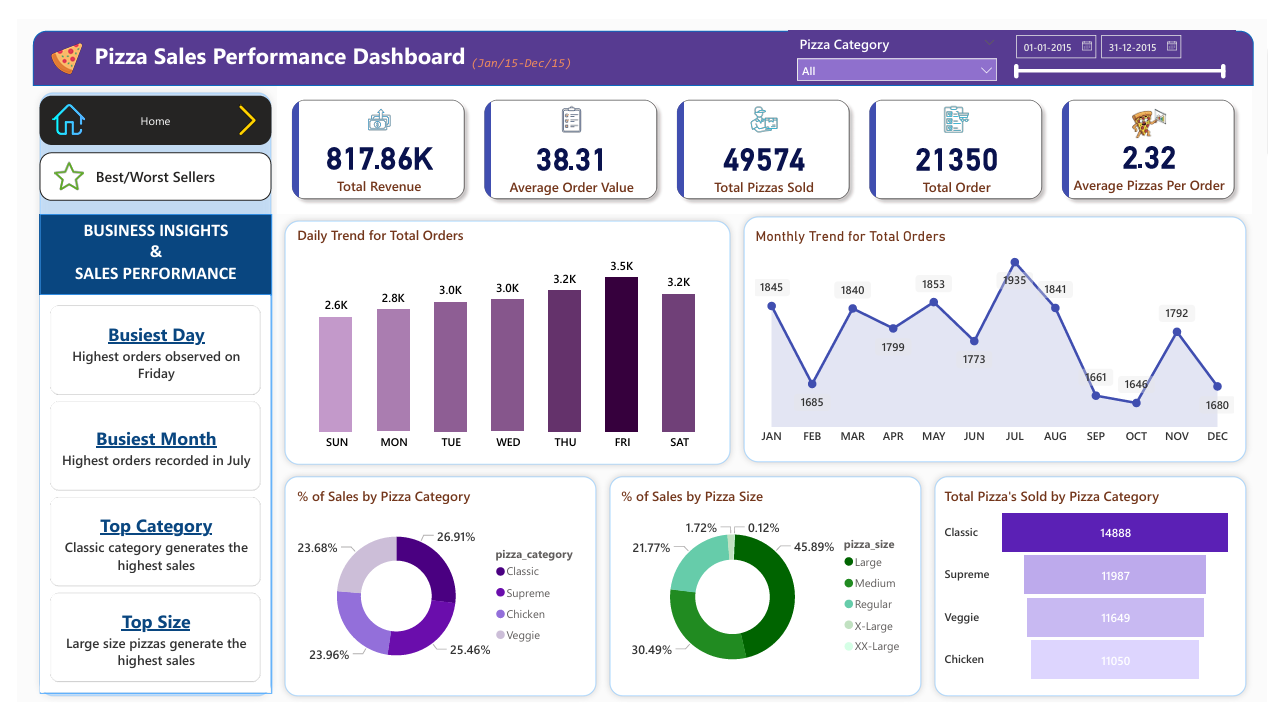

The dashboard page shown, as its layout file describes it:
{"tool":"powerbi","page":{"name":"Home","canvas":[1500,820],"ordinal":0},"visuals":[{"type":"cardVisual","fields":{"Data":["pizza_sales.Total_Revenue","pizza_sales.Avg_Order_Value","pizza_sales.Total_Pizzas_Sold","pizza_sales.Total_Order","pizza_sales.Avg_Pizzas_Per_Order"]},"box":[312,79.4,1169.8,153.2],"z":0},{"type":"shape","box":[18.1,12.5,1465.1,66.8],"z":1000},{"type":"textbox","box":[78,19.5,473.5,50.1],"z":2000},{"type":"textbox","box":[530.6,37.6,146.2,32],"z":3000},{"type":"image","box":[39,25.1,39,43.2],"z":4000},{"type":"shape","box":[312,232.6,551.5,309.2],"z":5000},{"type":"columnChart","title":"Daily Trend for Total Orders","fields":{"Category":["pizza_sales.Order Day"],"Y":["pizza_sales.Total Order"]},"box":[330.1,246.5,516.7,279.9],"z":6000},{"type":"shape","box":[863.5,228.4,618.3,310.6],"z":7000},{"type":"areaChart","title":"Monthly Trend for Total Orders","fields":{"Y":["pizza_sales.Total Order"],"Category":["pizza_sales.Order Month"]},"box":[880.2,249.3,583.5,270.2],"z":8000},{"type":"shape","box":[312,540.4,389.9,279.9],"z":9000},{"type":"shape","box":[701.9,540.4,389.9,279.9],"z":10000},{"type":"shape","box":[18.1,79.4,293.9,740.9],"z":11000},{"type":"shape","box":[1091.9,540.4,389.9,279.9],"z":12000},{"type":"donutChart","title":"% of Sales by Pizza Category","fields":{"Y":["pizza_sales.Total Revenue"],"Category":["pizza_sales.pizza_category"]},"box":[330,560,357.1,241.4],"z":13000},{"type":"donutChart","title":"% of Sales by Pizza Size","fields":{"Y":["pizza_sales.Total Revenue"],"Category":["pizza_sales.pizza_size"]},"box":[718.6,560,357.1,242.9],"z":14000},{"type":"funnel","title":"Total Pizza''s Sold by Pizza Category","fields":{"Category":["pizza_sales.pizza_category"],"Y":["pizza_sales.Total Pizza's Sold"]},"box":[1107.1,560,355.7,241.4],"z":15000},{"type":"slicer","fields":{"Values":["pizza_sales.pizza_category"]},"box":[924.7,12.5,260.4,62.7],"z":16000},{"type":"slicer","fields":{"Values":["pizza_sales.order_date"]},"box":[1185.2,12.5,277.1,62.7],"z":17000},{"type":"pageNavigator","box":[26.5,90.5,278.5,59.9],"z":18000},{"type":"pageNavigator","box":[26.5,158.8,278.5,58.5],"z":19000},{"type":"image","box":[256.3,101.7,39,37.6],"z":20000},{"type":"image","box":[36.2,100.3,50.1,39],"z":21000},{"type":"image","box":[40.4,169.9,41.8,34.8],"z":22000},{"type":"cardVisual","fields":{"Data":["pizza_sales.Busiest_Day","pizza_sales.Busiest_Month","pizza_sales.Top_Category","pizza_sales.Top_Size"]},"box":[26.5,330.1,278.5,479.1],"z":23000},{"type":"textbox","box":[26.5,232.6,278.5,97.5],"z":24000}]}

Visuals, with their boxes in screenshot pixels (x1, y1, x2, y2), scaled from the page's 1500x820 canvas onto the 1286x723 screenshot:
cardVisual - pizza_sales.Total_Revenue x pizza_sales.Avg_Order_Value: locate(267, 70, 1270, 205)
shape: locate(16, 11, 1272, 70)
textbox: locate(67, 17, 473, 61)
textbox: locate(455, 33, 580, 61)
image: locate(33, 22, 67, 60)
shape: locate(267, 205, 740, 478)
"Daily Trend for Total Orders" columnChart: locate(283, 217, 726, 464)
shape: locate(740, 201, 1270, 475)
"Monthly Trend for Total Orders" areaChart: locate(755, 220, 1255, 458)
shape: locate(267, 476, 602, 722)
shape: locate(602, 476, 936, 722)
shape: locate(16, 70, 267, 722)
shape: locate(936, 476, 1270, 722)
"% of Sales by Pizza Category" donutChart: locate(283, 494, 589, 707)
"% of Sales by Pizza Size" donutChart: locate(616, 494, 922, 708)
"Total Pizza''s Sold by Pizza Category" funnel: locate(949, 494, 1254, 707)
slicer - pizza_sales.pizza_category: locate(793, 11, 1016, 66)
slicer - pizza_sales.order_date: locate(1016, 11, 1254, 66)
pageNavigator: locate(23, 80, 261, 133)
pageNavigator: locate(23, 140, 261, 192)
image: locate(220, 90, 253, 123)
image: locate(31, 88, 74, 123)
image: locate(35, 150, 70, 180)
cardVisual - pizza_sales.Busiest_Day x pizza_sales.Busiest_Month: locate(23, 291, 261, 713)
textbox: locate(23, 205, 261, 291)
